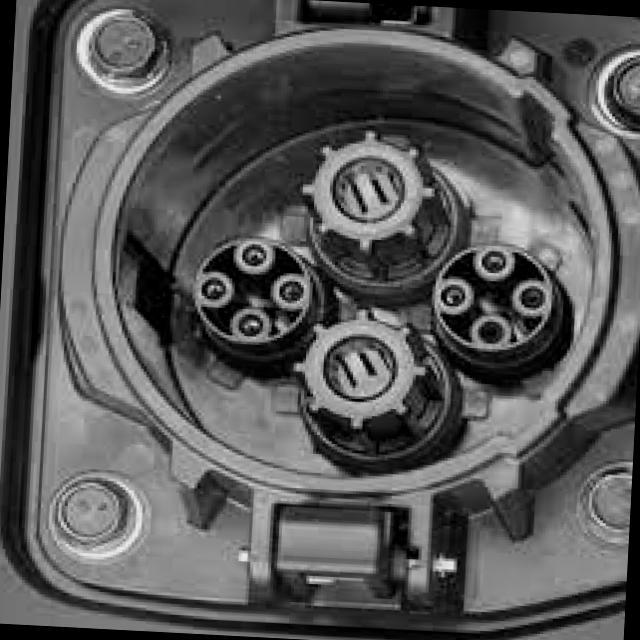CHAdeMO: (102, 49, 612, 492)
